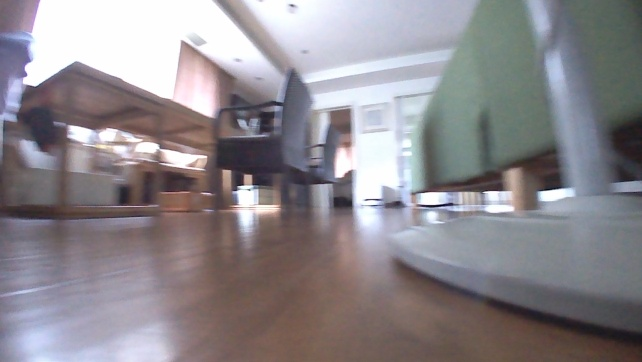chair_base: (385, 172, 641, 337)
dining_table: (0, 57, 342, 219)
sofa1: (401, 0, 641, 215)
